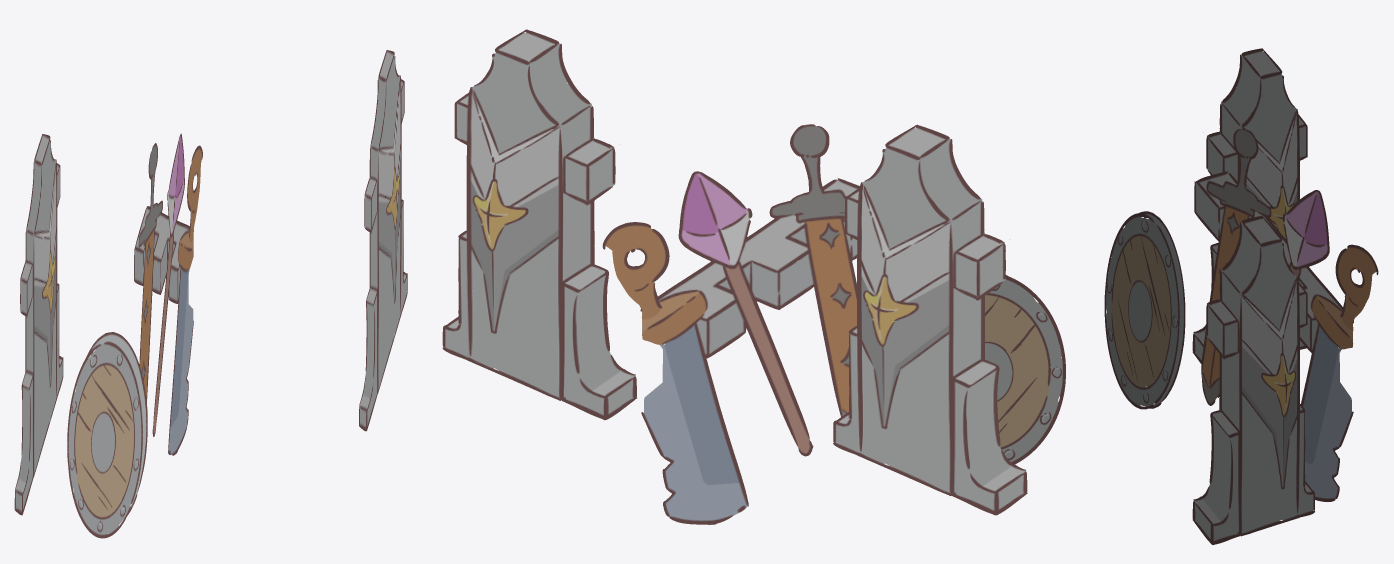
File: Mesh_Home_S0_Otter_Weapon.fbx
3 renders of one model, left to right at view 1: azimuth 30°, elevation 25°; view 2: azimuth 150°, elevation 25°; view 3: azimuth 270°, elevation 25°, orthographic. The views are drawn at different scales.
Parts seen in each view (by area): view 1: Mesh_Home_S0_Otter_Weapon; view 2: Mesh_Home_S0_Otter_Weapon; view 3: Mesh_Home_S0_Otter_Weapon.
Boxes of the visible parts, bbox=[...] form: Mesh_Home_S0_Otter_Weapon: bbox=[14, 50, 407, 538]; Mesh_Home_S0_Otter_Weapon: bbox=[442, 29, 1065, 524]; Mesh_Home_S0_Otter_Weapon: bbox=[1104, 48, 1378, 544].
Bounding box in the file's own units: 203 × 165 × 108.
